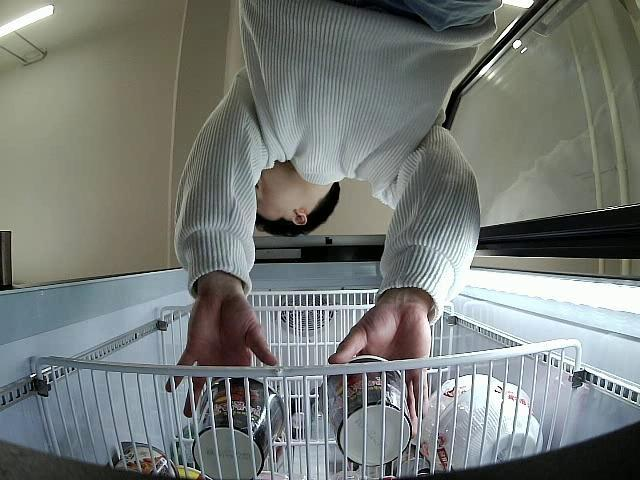08_buldak_S: (324, 354, 414, 466), (192, 376, 284, 480)
